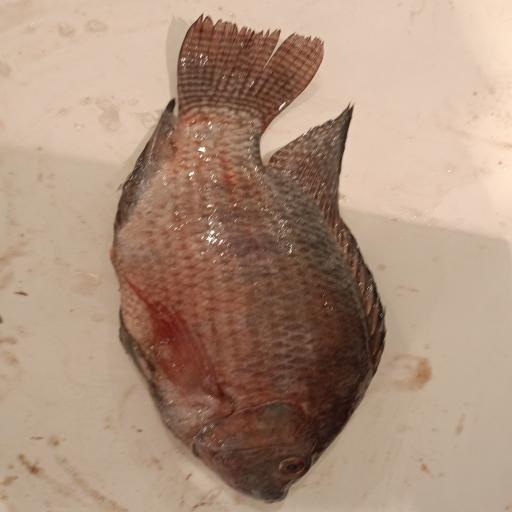Tilapia: (109, 14, 387, 504)
